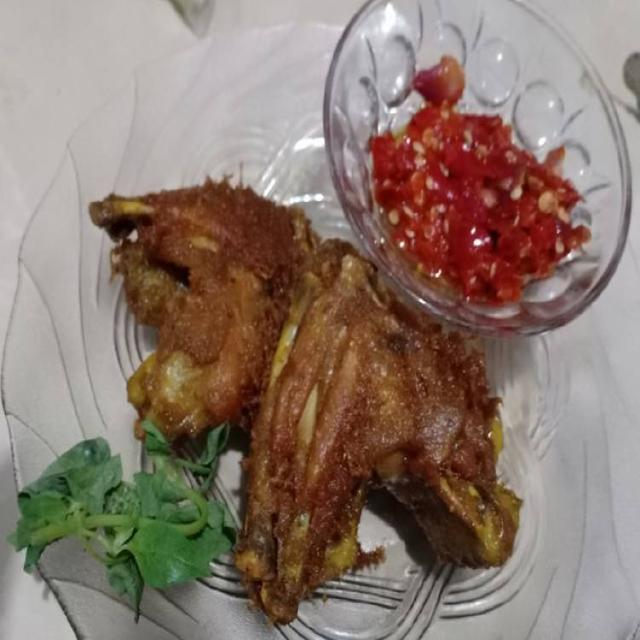Frango: (233, 242, 518, 615), (89, 184, 309, 468)
